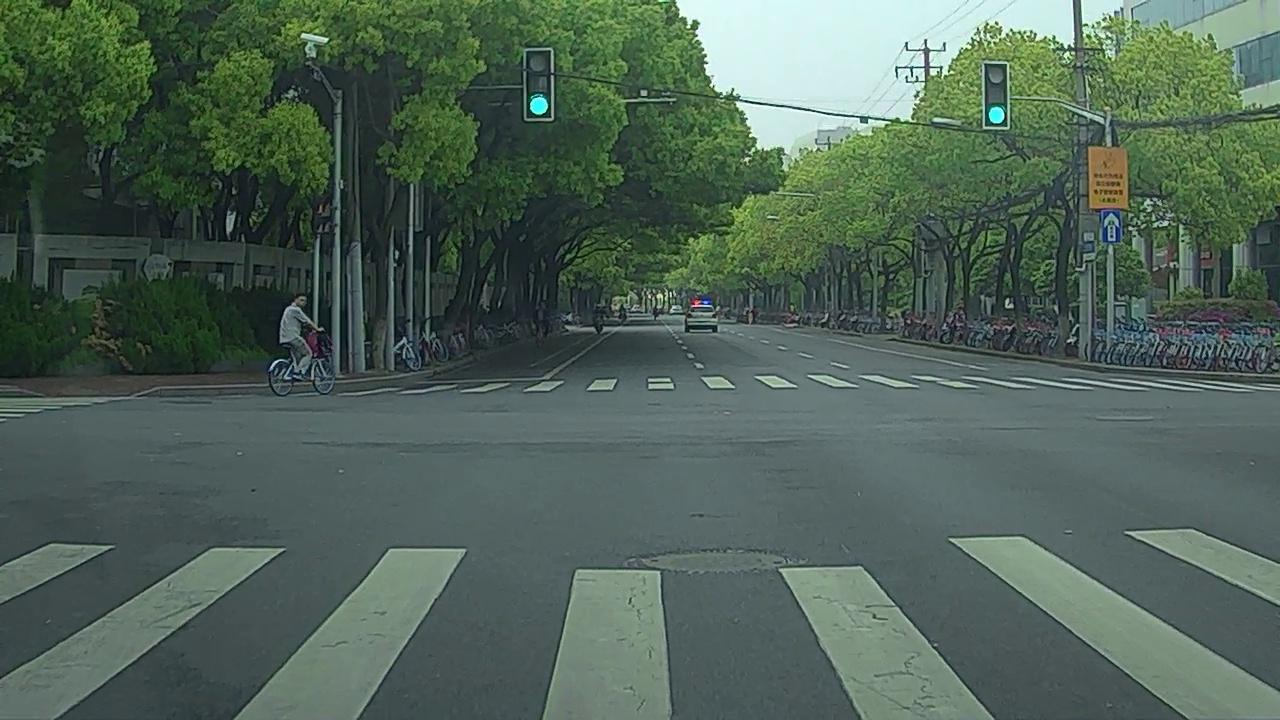traffic_light: (526, 49, 550, 119), (985, 64, 1008, 127)
